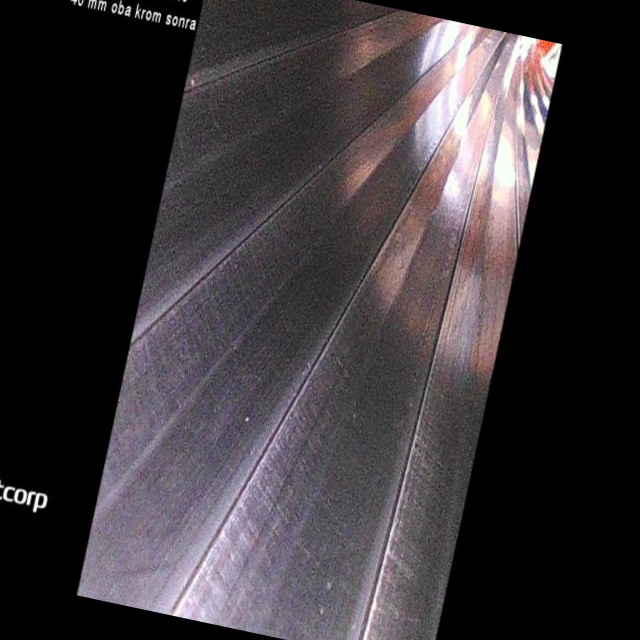hata_4.1: (360, 389, 384, 430), (376, 563, 393, 593), (374, 596, 392, 620), (142, 100, 155, 132), (263, 418, 277, 447), (421, 374, 433, 402), (414, 603, 425, 628), (284, 163, 295, 186)
